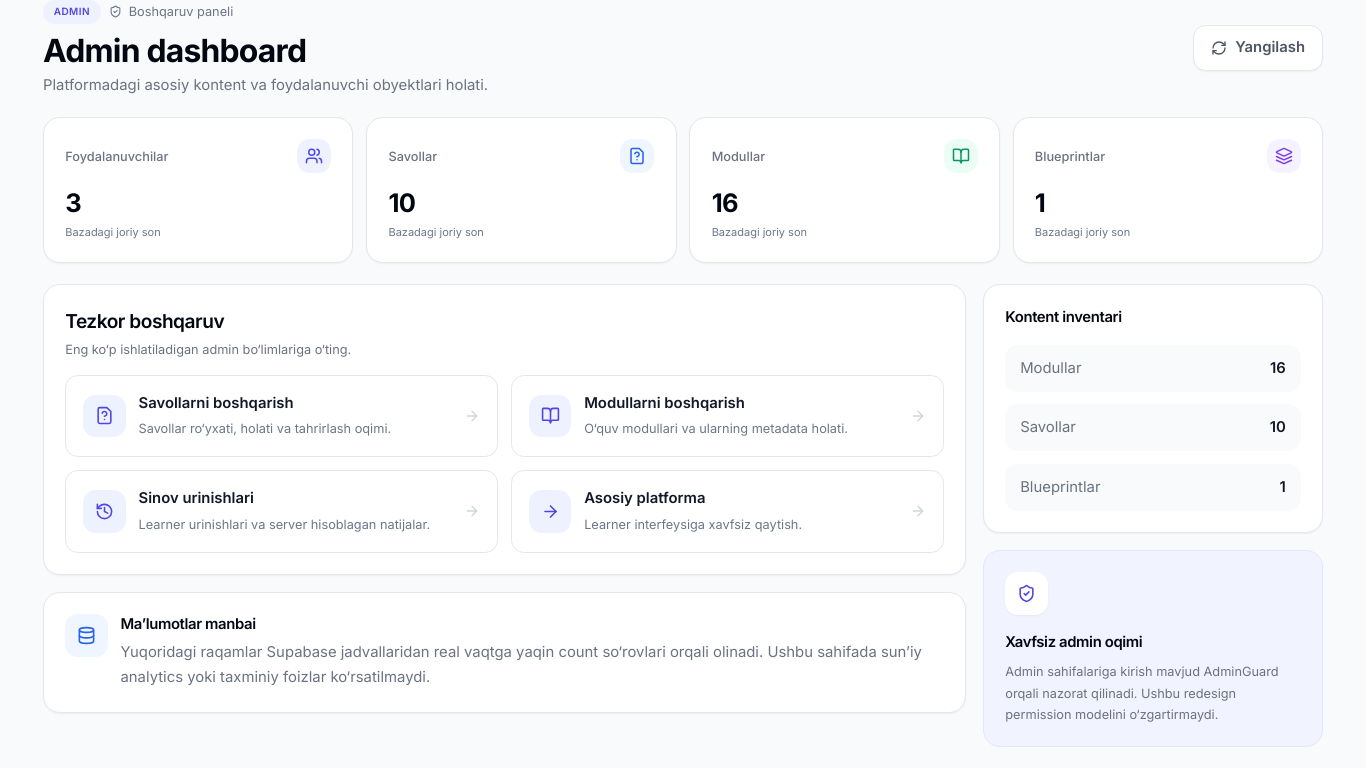
Test: AdminDashboard backend boundary › Yangilash tugmasi backend count so‘rovini qayta yuboradi
This screenshot has width=1366, height=768.
Expected: the text "10" below "Foydalanuvchilar" is shown, [388,187,415,218]
Click the button "Yangilash": (1258, 48) [1193,24,1323,71]
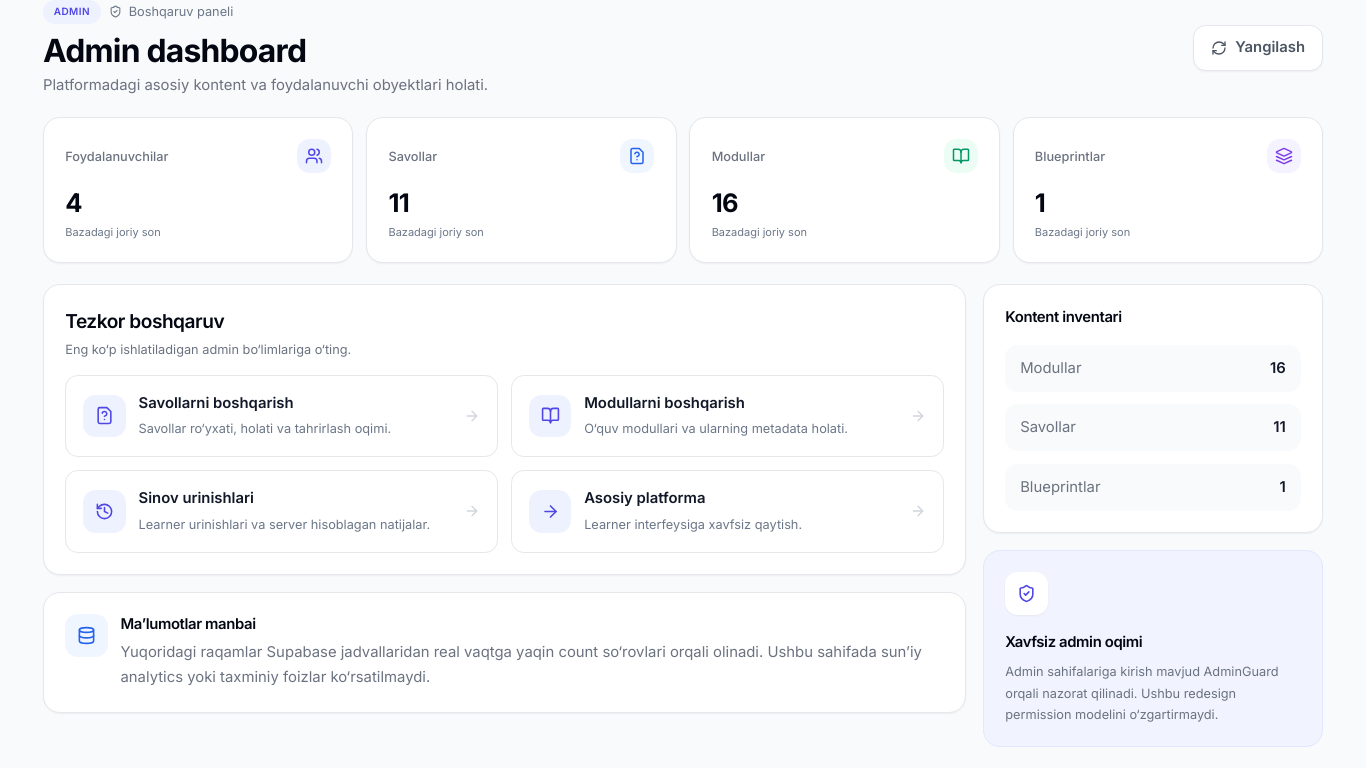
Expected: the text "11" below "Foydalanuvchilar" is shown, [388,187,409,218]
